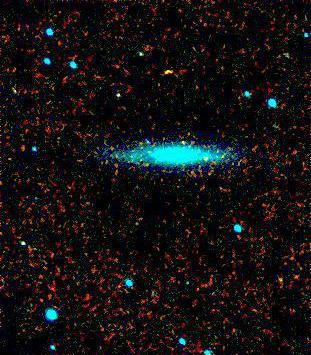star: (168, 128, 198, 158)
